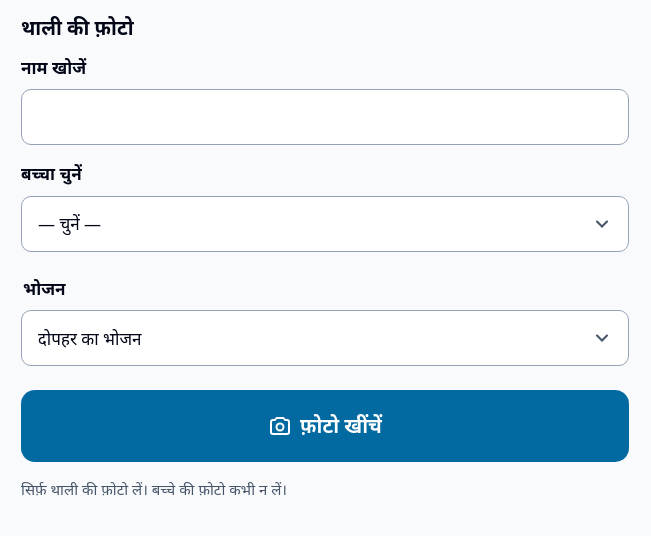
Capture screen › refuses to start the camera before a child is chosen
Click the button "फ़ोटो खींचें".
click(325, 426)  # box [21, 390, 629, 462]
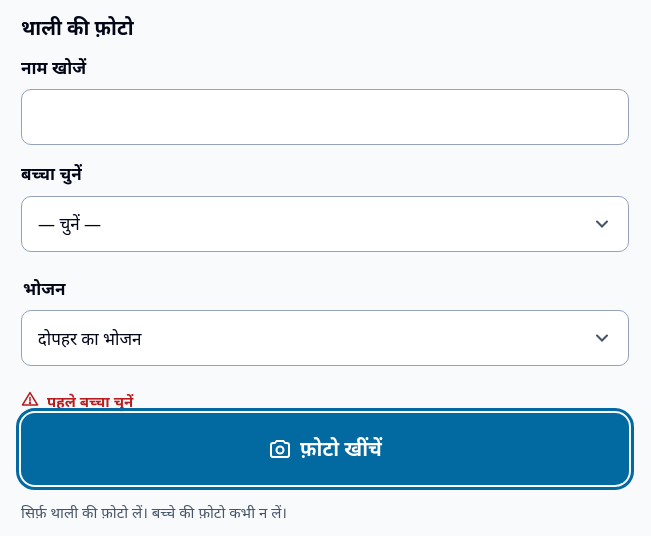
Now the message reads "पहले बच्चा चुनें", box [47, 391, 133, 411]
